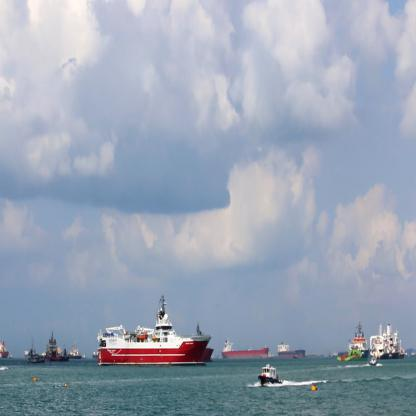Container Ship: (88, 292, 211, 373), (368, 319, 406, 362), (334, 320, 366, 364), (218, 337, 270, 364), (40, 330, 73, 367), (272, 339, 310, 362), (22, 338, 48, 368), (63, 338, 82, 364)
